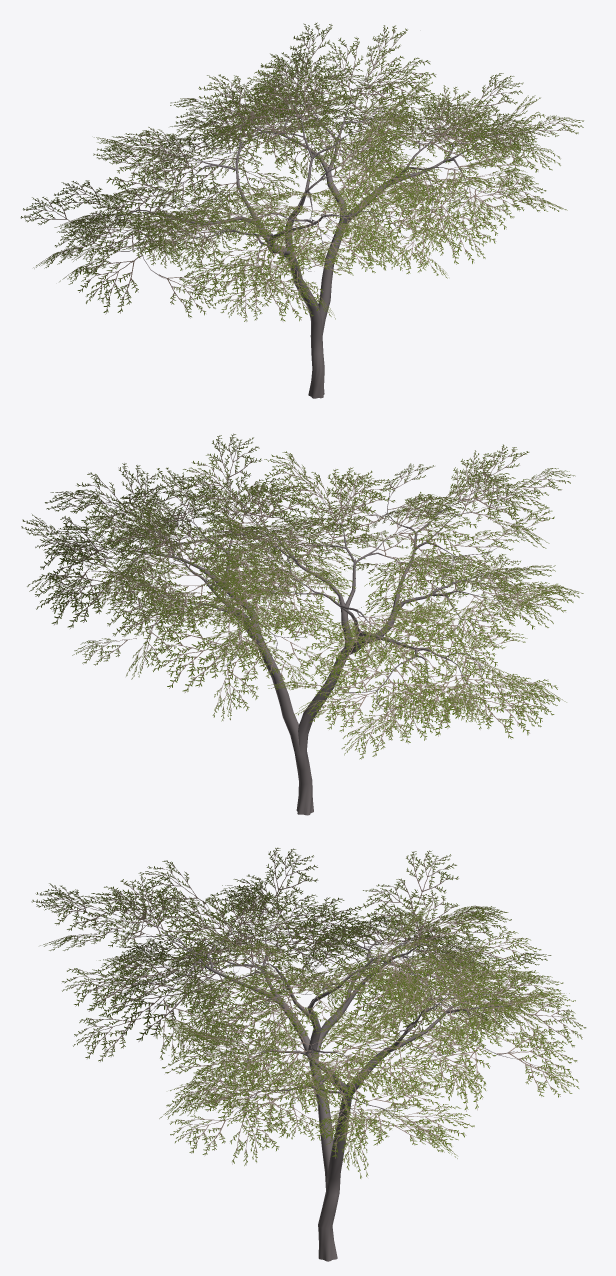
The model's file is accacia_feuillage2.glb.
The picture shows the model from 3 angles, top to bottom: view 1: azimuth 30°, elevation 25°; view 2: azimuth 150°, elevation 25°; view 3: azimuth 270°, elevation 25°; orthographic projection. The views are drawn at different scales.
Visible parts, largest first — view 1: acacia branch_1, bark05_0; view 2: acacia branch_1, bark05_0; view 3: acacia branch_1, bark05_0.
Boxes of the visible parts, x1=… form: acacia branch_1: x1=20, y1=22, x2=583, y2=321; bark05_0: x1=75, y1=63, x2=531, y2=398; acacia branch_1: x1=21, y1=433, x2=583, y2=759; bark05_0: x1=76, y1=477, x2=514, y2=815; acacia branch_1: x1=31, y1=847, x2=586, y2=1178; bark05_0: x1=95, y1=900, x2=538, y2=1261.
Bounding box in the file's own units: 12.8 × 6.9 × 10.39.
Materials: 2 (1 with a texture image).
